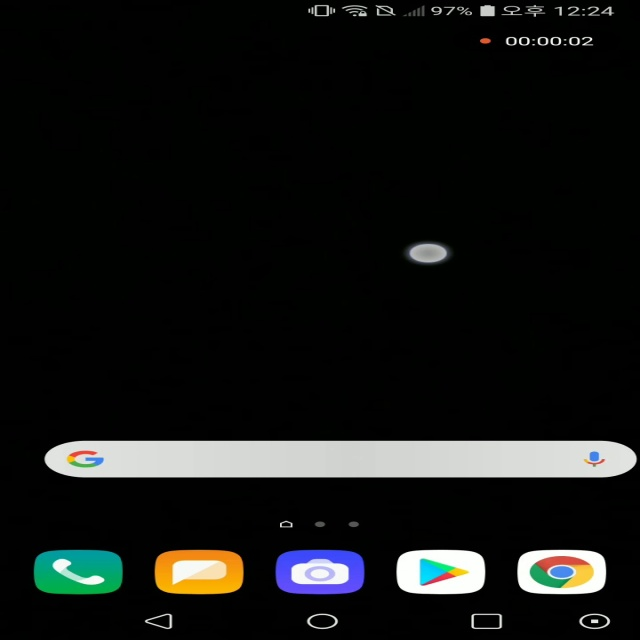Cursor: (407, 243, 451, 265)
